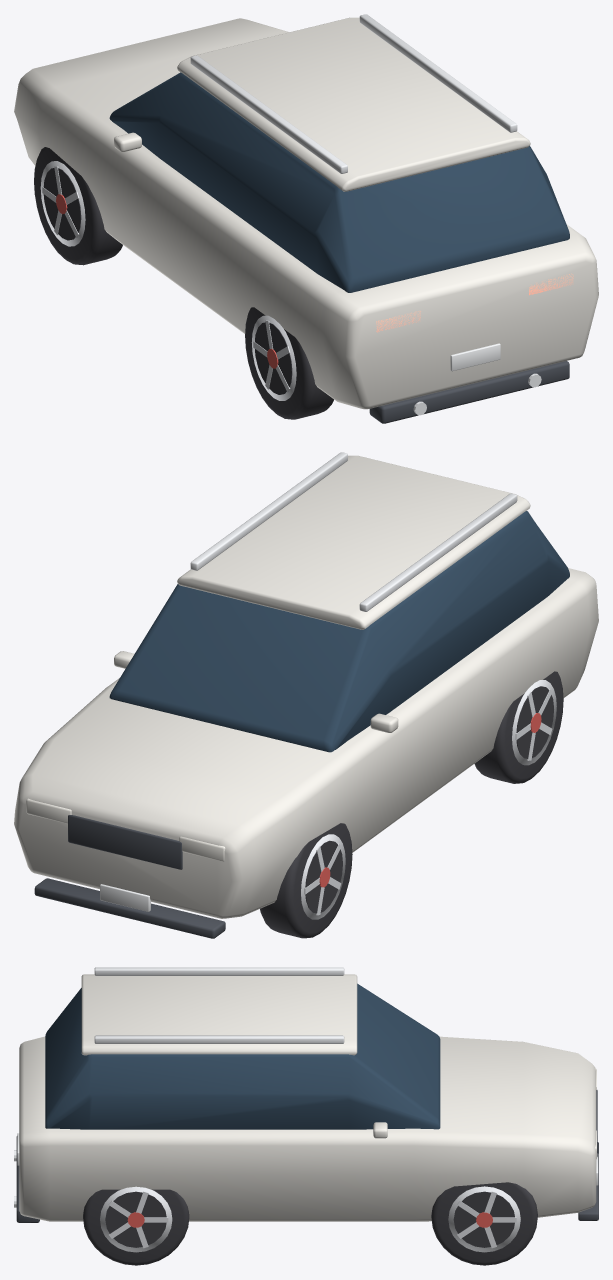
Rendered from Car_BeachSUV.fbx.
3 views of the same model, one above another, from view 1: azimuth 30°, elevation 25°; view 2: azimuth 150°, elevation 25°; view 3: azimuth 270°, elevation 25° (orthographic). The views are drawn at different scales.
Parts seen in each view (by area): view 1: Car_Body, Wheel_FL, Wheel_RL; view 2: Car_Body, Wheel_FL, Wheel_RL; view 3: Car_Body, Wheel_FR, Wheel_RR.
Boxes of the visible parts, box(x1,y1,x2,y2) form: Car_Body: box(14, 14, 598, 423); Wheel_FL: box(34, 147, 122, 265); Wheel_RL: box(245, 307, 333, 419); Car_Body: box(14, 452, 598, 938); Wheel_FL: box(260, 823, 352, 938); Wheel_RL: box(474, 671, 563, 783); Car_Body: box(14, 967, 598, 1222); Wheel_FR: box(431, 1182, 537, 1265); Wheel_RR: box(83, 1186, 189, 1265).
Size of the model in its own units: 2.04 by 1.81 by 4.5.
